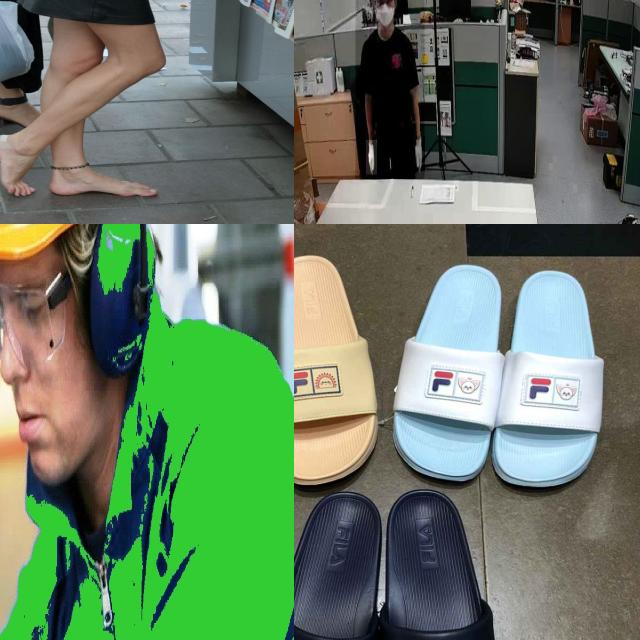Barefoots: (50, 172, 158, 196), (0, 134, 35, 196)
Ear-protection: (93, 224, 164, 399)
Sandals: (388, 238, 629, 508), (294, 477, 559, 640), (294, 247, 384, 525)
face_mask: (374, 0, 395, 30)
hand_glove: (411, 135, 425, 172), (366, 140, 378, 175)
person: (355, 0, 424, 179)
